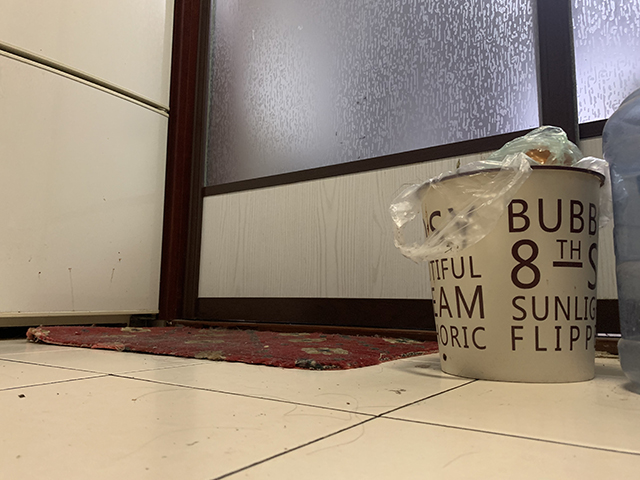carpet: (26, 324, 439, 373)
trashcan: (415, 163, 607, 385)
